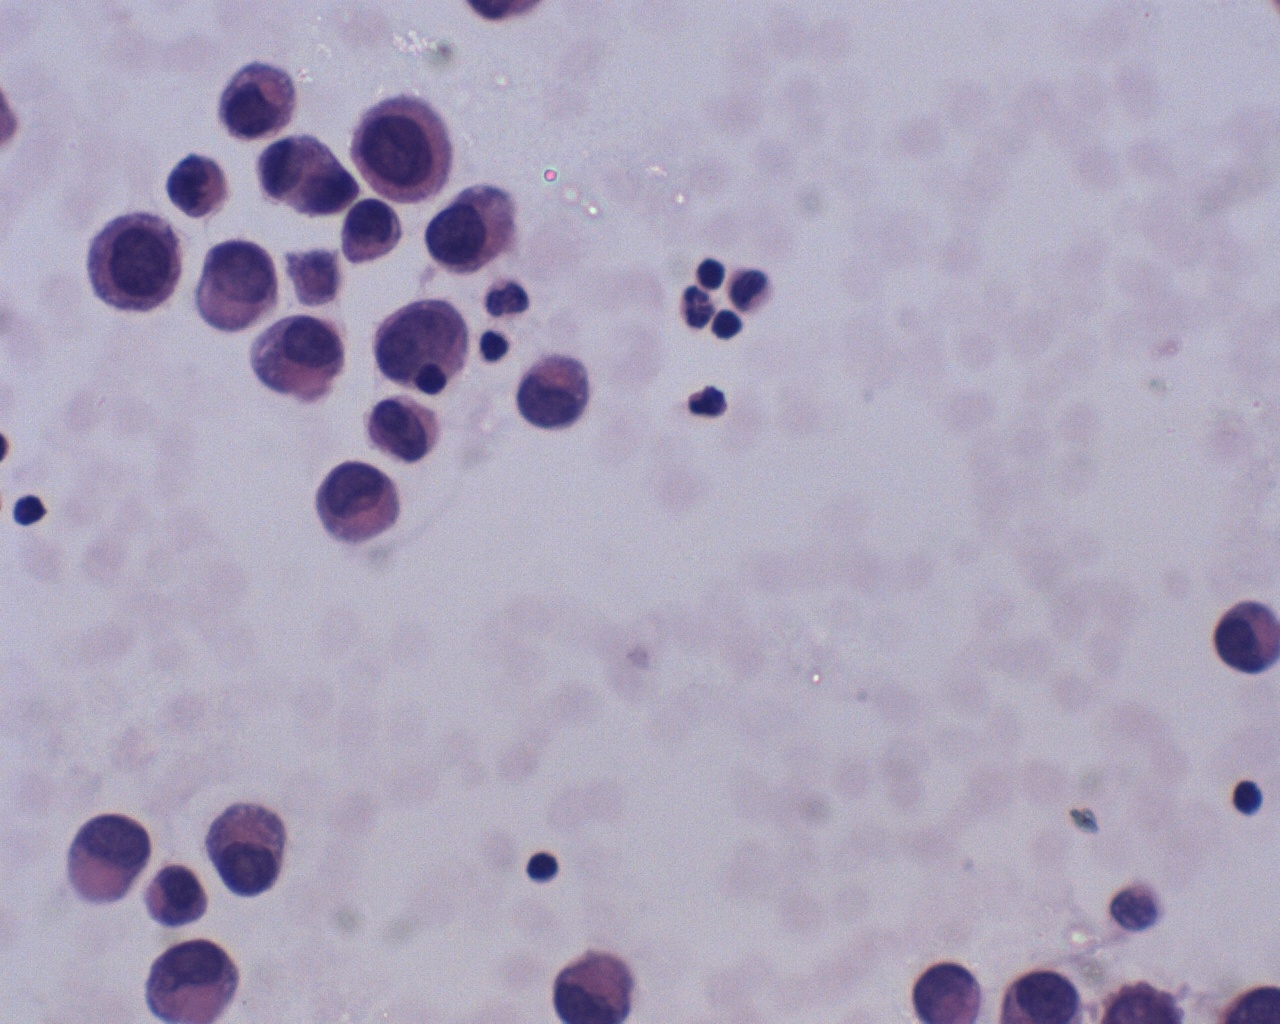ab: (340, 92, 460, 207), (193, 797, 315, 905), (84, 206, 191, 321), (367, 281, 469, 394), (134, 938, 259, 1024), (184, 240, 290, 334), (60, 809, 158, 907), (312, 453, 410, 550), (424, 182, 523, 274), (511, 348, 606, 437), (219, 59, 306, 144), (333, 195, 409, 277)
lymph: (1219, 772, 1270, 820), (519, 848, 568, 893), (11, 488, 56, 536)
neutro: (666, 280, 719, 333)
